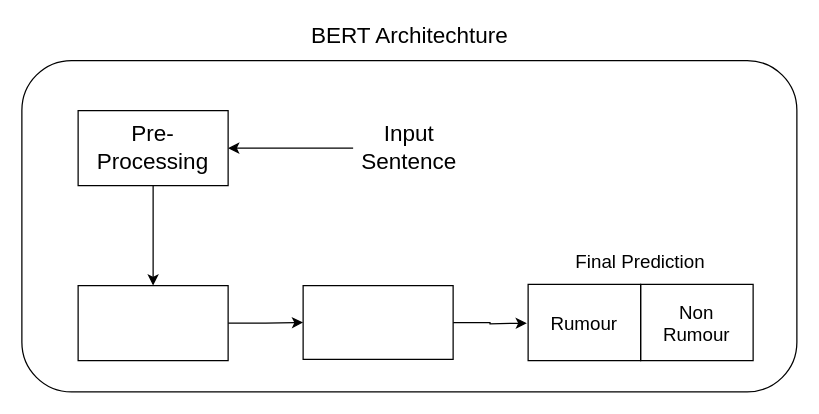
The diagram is 819 pixels wide and 414 high, and some of its shapes have lost their labels. Here are the shapes that lost their labels. From the top down, the centre of each, then its label:
At point 152,322: "DistilBERT".
At point 377,321: "Logistic Regression".
